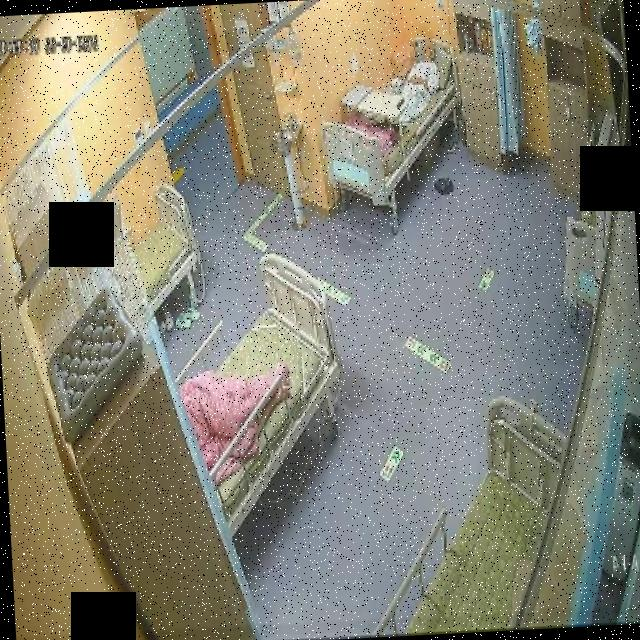bed: (362, 390, 578, 638), (178, 252, 346, 533), (320, 38, 464, 208), (131, 184, 203, 315)
lie: (388, 38, 444, 124)
patient: (388, 38, 444, 124)
